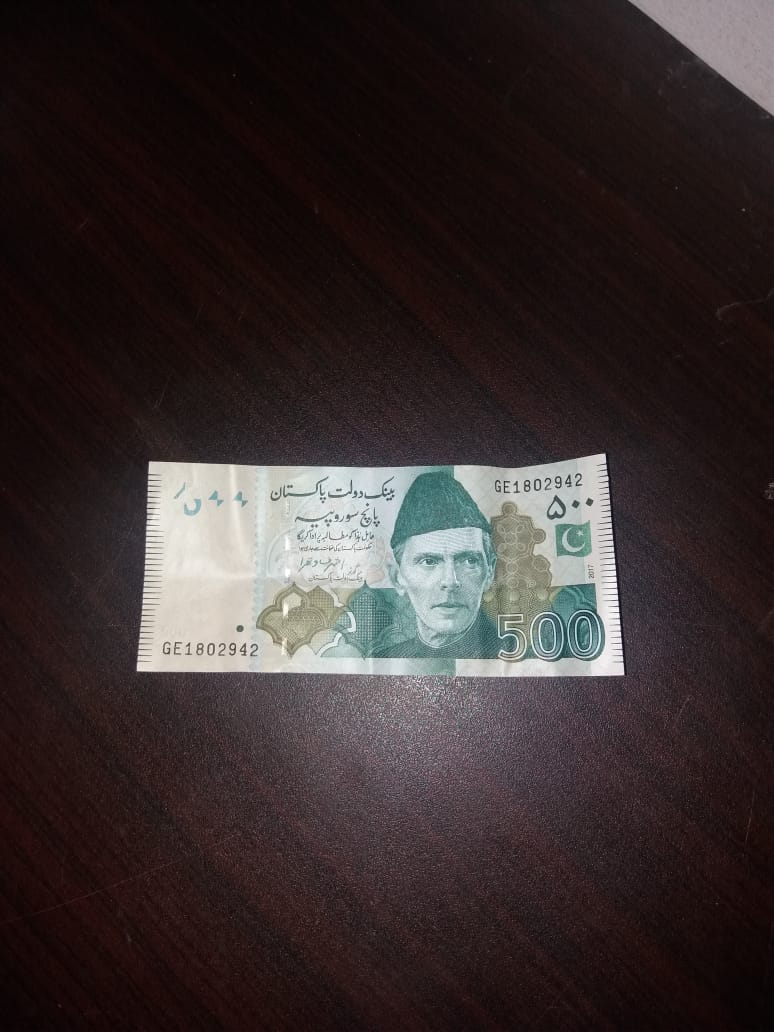500 rupee: (117, 391, 644, 720)
